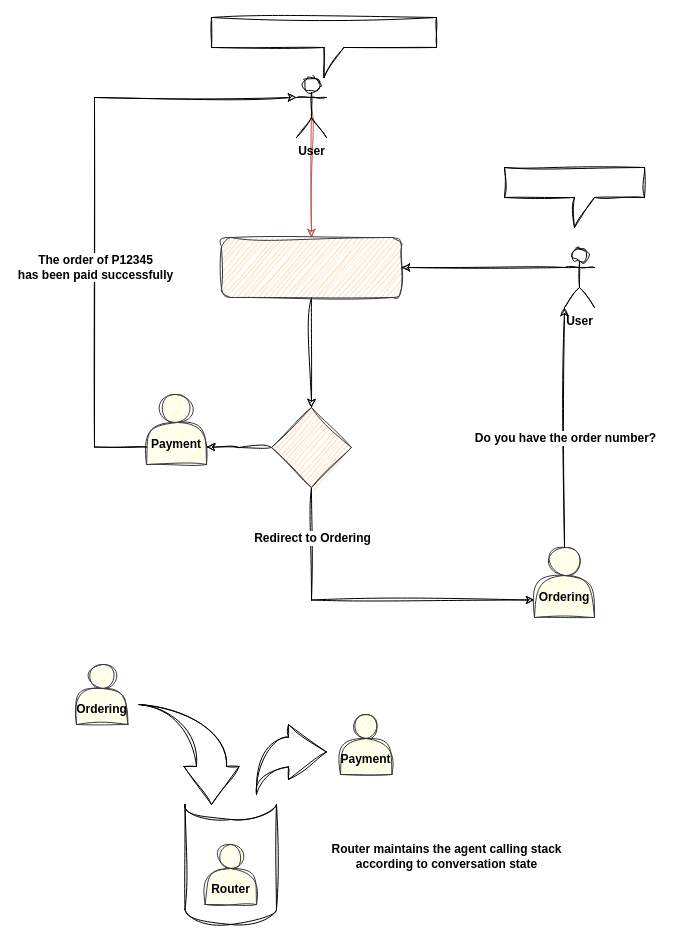
Image size: 673x942. Some labels were removed from this diagram. Each missing label, with the centre of its shape:
BotSharp Routing with redirection: the point at 311,267
Have Order Number?: the point at 311,447
May I know the order payment status?: the point at 323,47
The order is P12345: the point at 574,197
